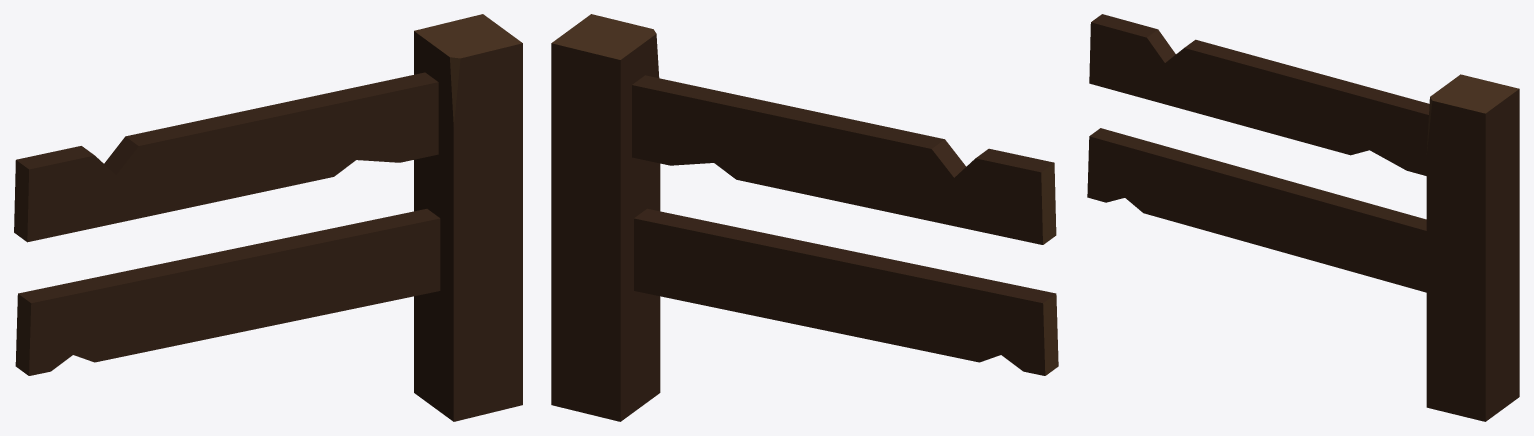
The model's file is Cave_Lair_Wooden_Timber_Fence_Broken_Small_05.fbx.
3 renders of one model, left to right at view 1: azimuth 30°, elevation 25°; view 2: azimuth 150°, elevation 25°; view 3: azimuth 330°, elevation 25°, orthographic. The views are drawn at different scales.
Visible parts, largest first — view 1: Cave_Lair_Wooden_Timber_Fence_Broken_Small_05; view 2: Cave_Lair_Wooden_Timber_Fence_Broken_Small_05; view 3: Cave_Lair_Wooden_Timber_Fence_Broken_Small_05.
Part boxes in pixels (bbox=[...]): Cave_Lair_Wooden_Timber_Fence_Broken_Small_05: bbox=[14, 14, 522, 421]; Cave_Lair_Wooden_Timber_Fence_Broken_Small_05: bbox=[551, 14, 1058, 421]; Cave_Lair_Wooden_Timber_Fence_Broken_Small_05: bbox=[1087, 14, 1519, 421].
Size of the model in its own units: 1.56 by 1.12 by 0.225.
